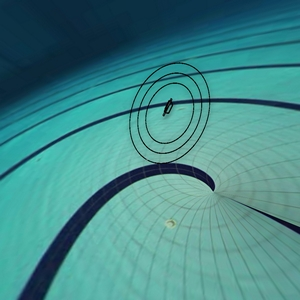circle: (113, 29, 225, 184)
submarine: (157, 91, 178, 121)
